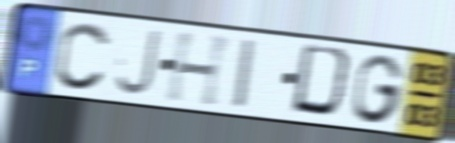C: (53, 19, 113, 94)
D: (288, 41, 358, 123)
G: (351, 52, 407, 126)
H: (164, 30, 237, 110)
I: (232, 36, 258, 112)
J: (112, 26, 164, 99)
